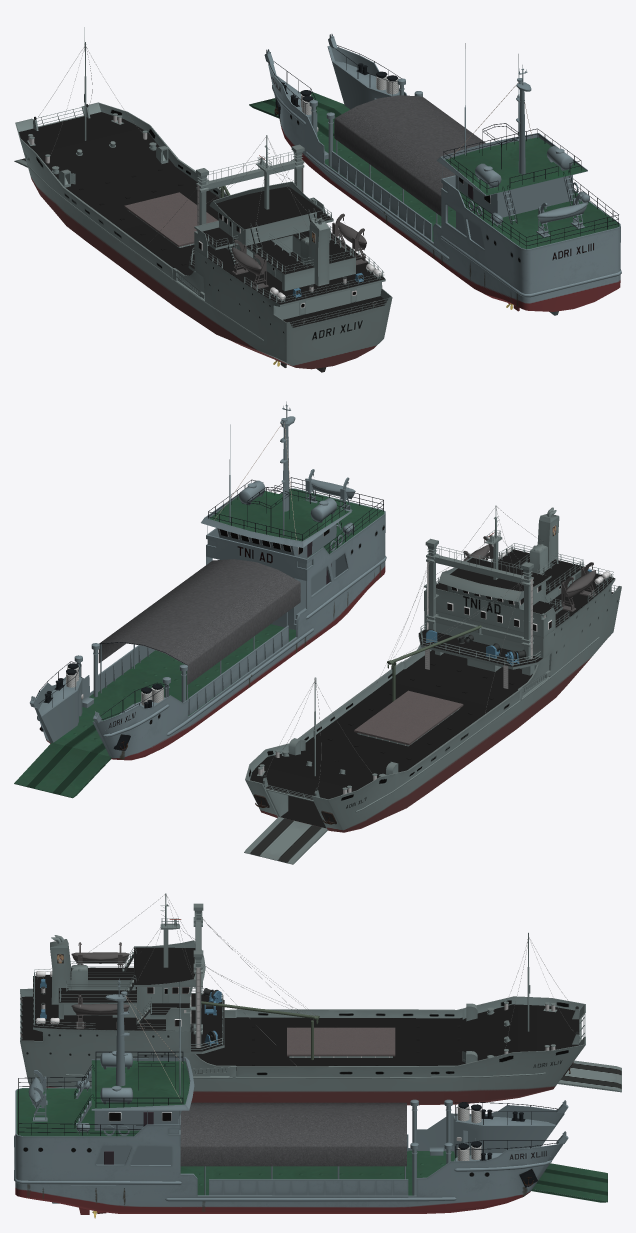
File: nave_cargo.glb
The picture shows the model from 3 angles, top to bottom: view 1: azimuth 30°, elevation 25°; view 2: azimuth 150°, elevation 25°; view 3: azimuth 270°, elevation 25°; orthographic projection.
Visible parts, largest first — view 1: Vessel, Main Vessel, Temporary Roof, Front Big Door; view 2: Vessel, Main Vessel, Temporary Roof, Front Big Door, Front Lid Door; view 3: Vessel, Main Vessel, Temporary Roof, Front Big Door, Front Lid Door.
Part boxes in pixels (bbox=[...]): Vessel: bbox=[15, 27, 392, 372]; Main Vessel: bbox=[264, 34, 621, 315]; Temporary Roof: bbox=[334, 95, 485, 223]; Front Big Door: bbox=[249, 92, 344, 118]; Vessel: bbox=[245, 505, 621, 832]; Main Vessel: bbox=[29, 401, 386, 760]; Temporary Roof: bbox=[98, 559, 300, 699]; Front Big Door: bbox=[14, 742, 111, 798]; Front Lid Door: bbox=[244, 817, 327, 864]; Vessel: bbox=[20, 893, 585, 1105]; Main Vessel: bbox=[14, 977, 568, 1213]; Temporary Roof: bbox=[180, 1102, 406, 1195]; Front Big Door: bbox=[531, 1163, 607, 1202]; Front Lid Door: bbox=[557, 1060, 621, 1092].
Size of the model in its own units: 43.04 by 29.03 by 65.72.
3 materials, 3 textured.
